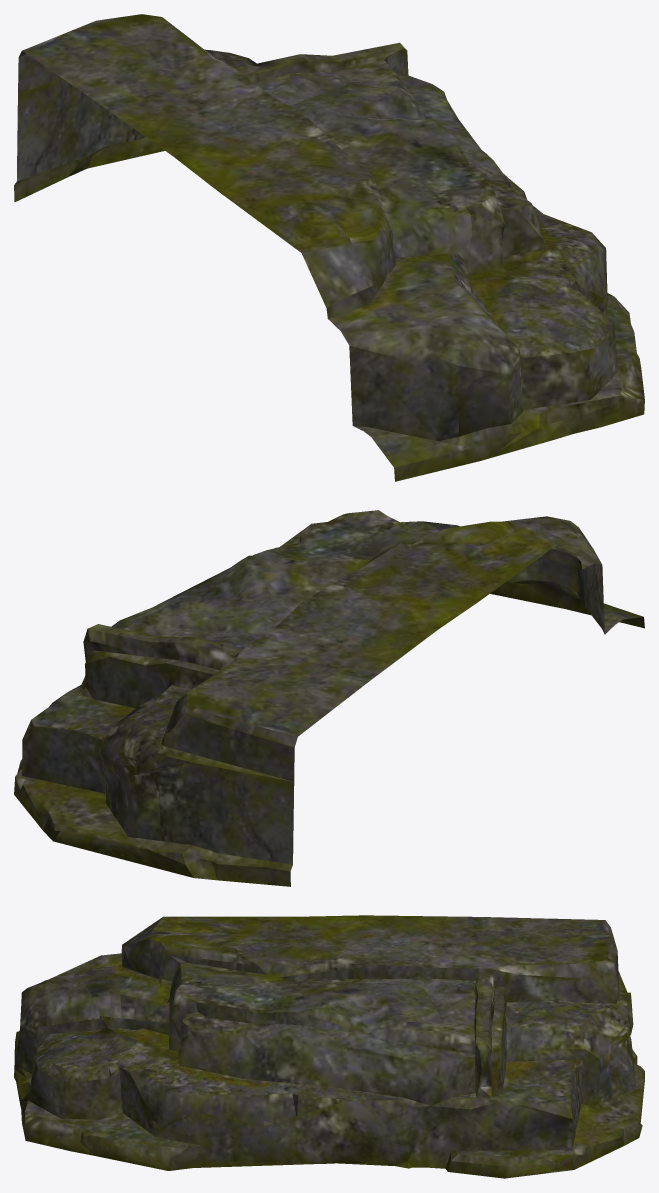
File: shore-ledge.lod0.glb
3 views of the same model, one above another, from view 1: azimuth 30°, elevation 25°; view 2: azimuth 150°, elevation 25°; view 3: azimuth 270°, elevation 25° (orthographic). The views are drawn at different scales.
Parts seen in each view (by area): view 1: cliff_lp_cliff_0; view 2: cliff_lp_cliff_0; view 3: cliff_lp_cliff_0.
Part boxes in pixels (<box>): cliff_lp_cliff_0: <box>14,14,644,481</box>; cliff_lp_cliff_0: <box>14,510,644,886</box>; cliff_lp_cliff_0: <box>14,915,644,1178</box>.
Size of the model in its own units: 9.27 by 4.26 by 18.25.
1 material, 1 textured.
